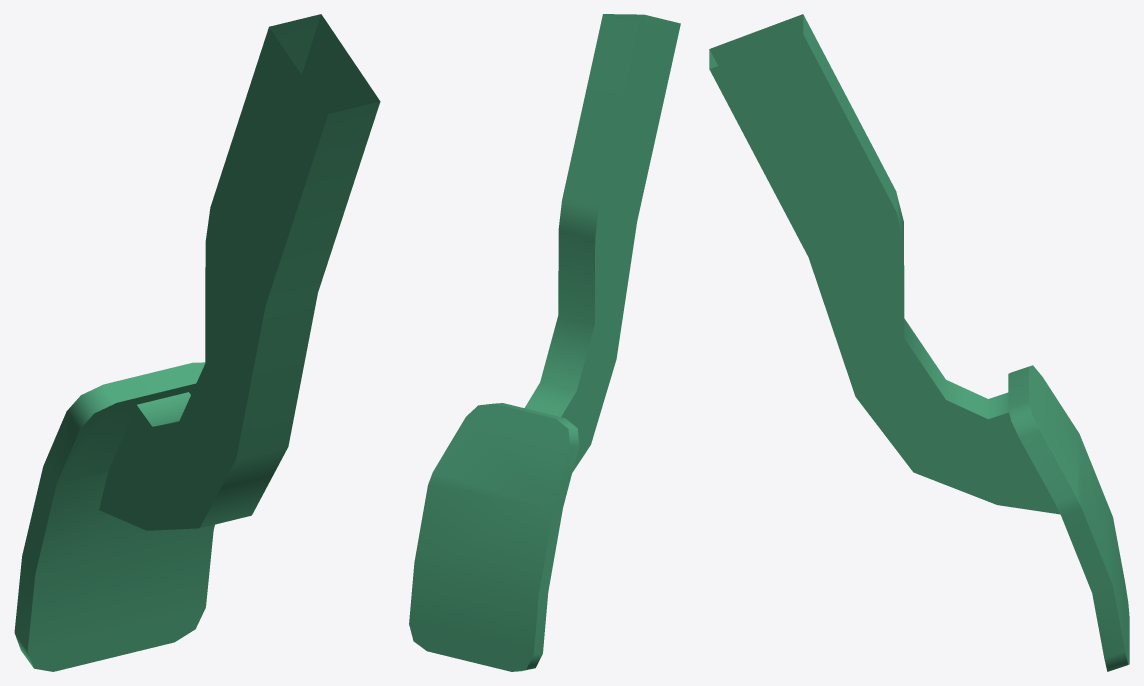
The model's file is gas_pedal.fbx.
3 views of the same model, side by side, from view 1: azimuth 30°, elevation 25°; view 2: azimuth 150°, elevation 25°; view 3: azimuth 270°, elevation 25° (orthographic). The views are drawn at different scales.
Parts seen in each view (by area): view 1: vivace_pedal_gas; view 2: vivace_pedal_gas; view 3: vivace_pedal_gas.
Boxes of the visible parts, <box> form: vivace_pedal_gas: <box>14,14,380,671</box>; vivace_pedal_gas: <box>409,14,680,671</box>; vivace_pedal_gas: <box>709,14,1129,671</box>.
Bounding box in the file's own units: 5 × 20.92 × 12.87.
